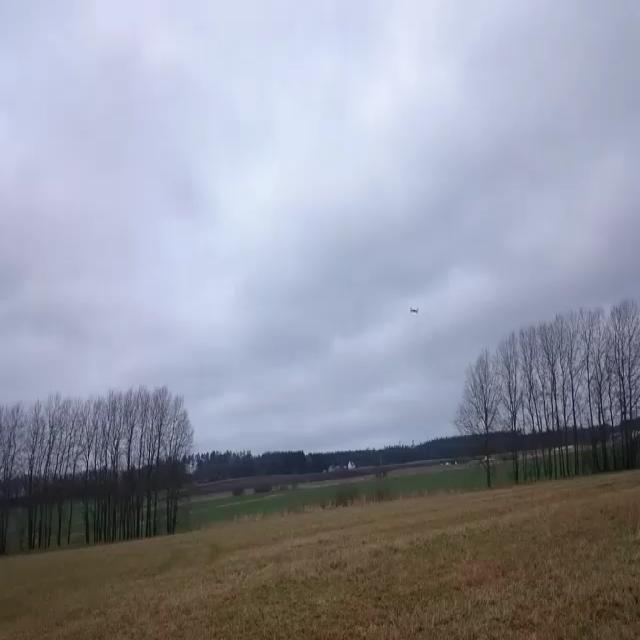Drone: (399, 300, 427, 320)
